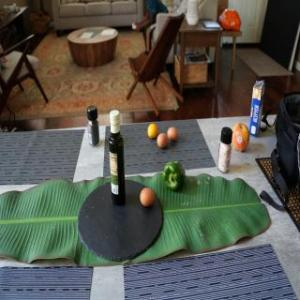bell_pepper: (163, 160, 184, 190)
egg: (138, 186, 154, 208), (166, 125, 180, 143), (158, 132, 170, 150)
